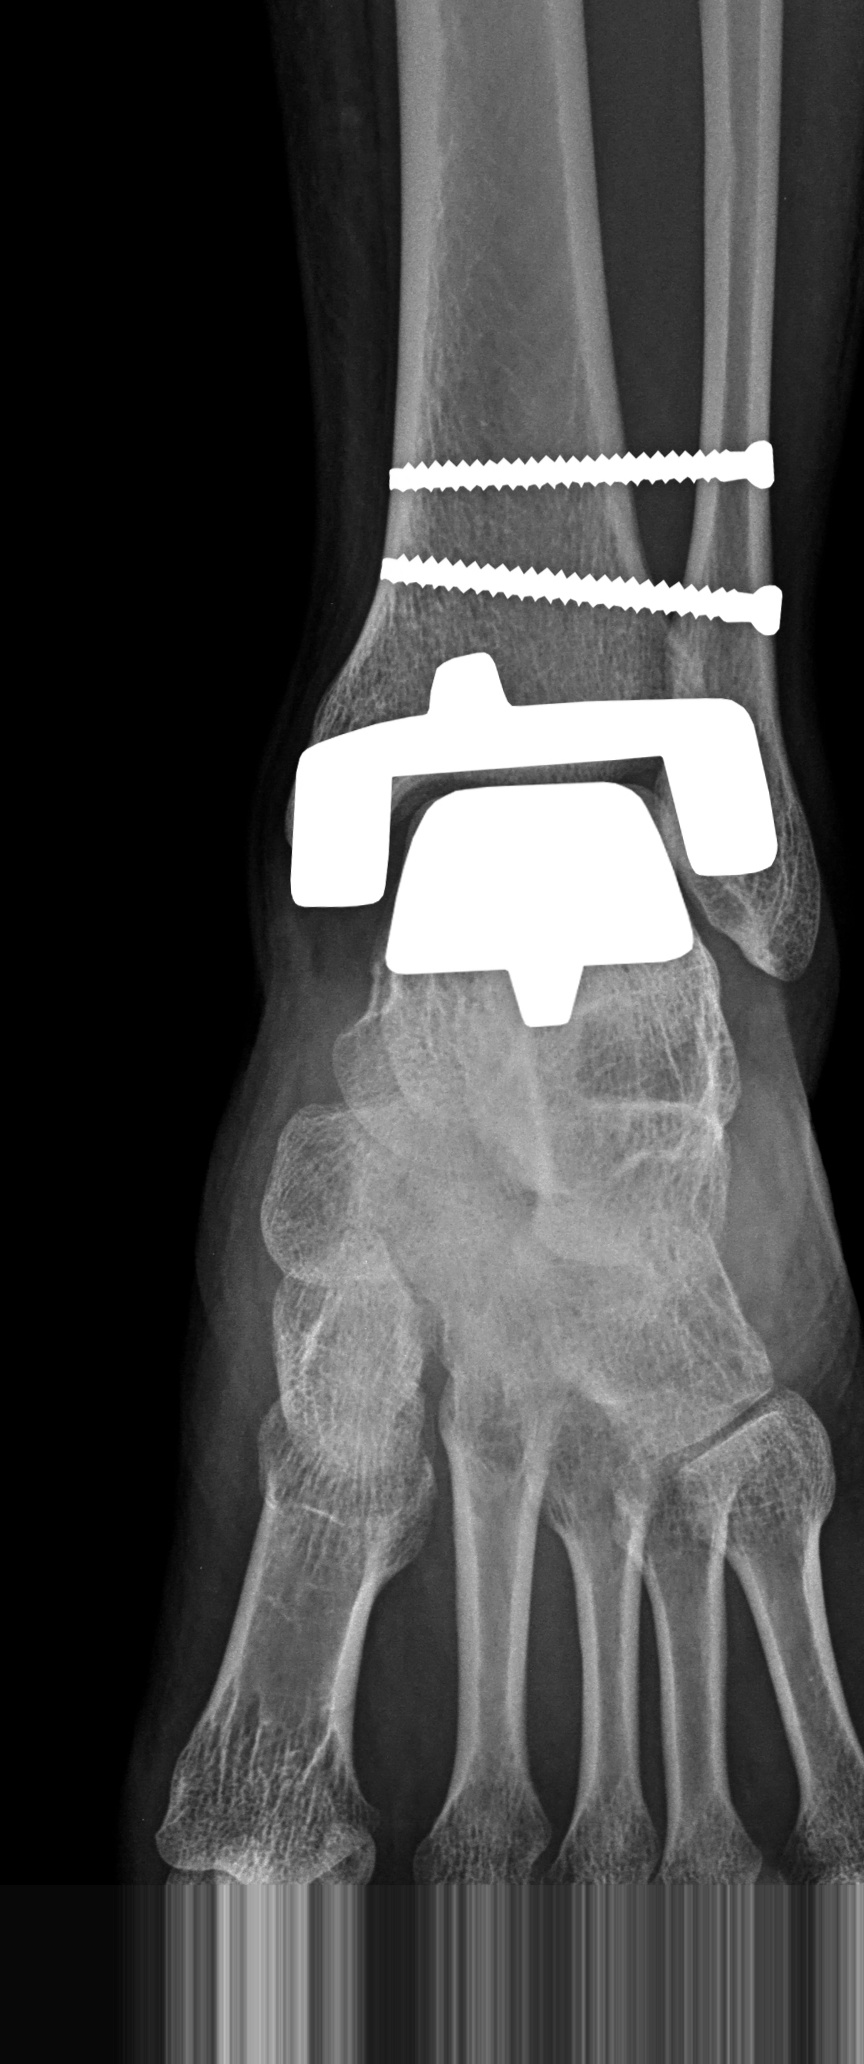Agility-Depuy: (258, 423, 788, 1033)
